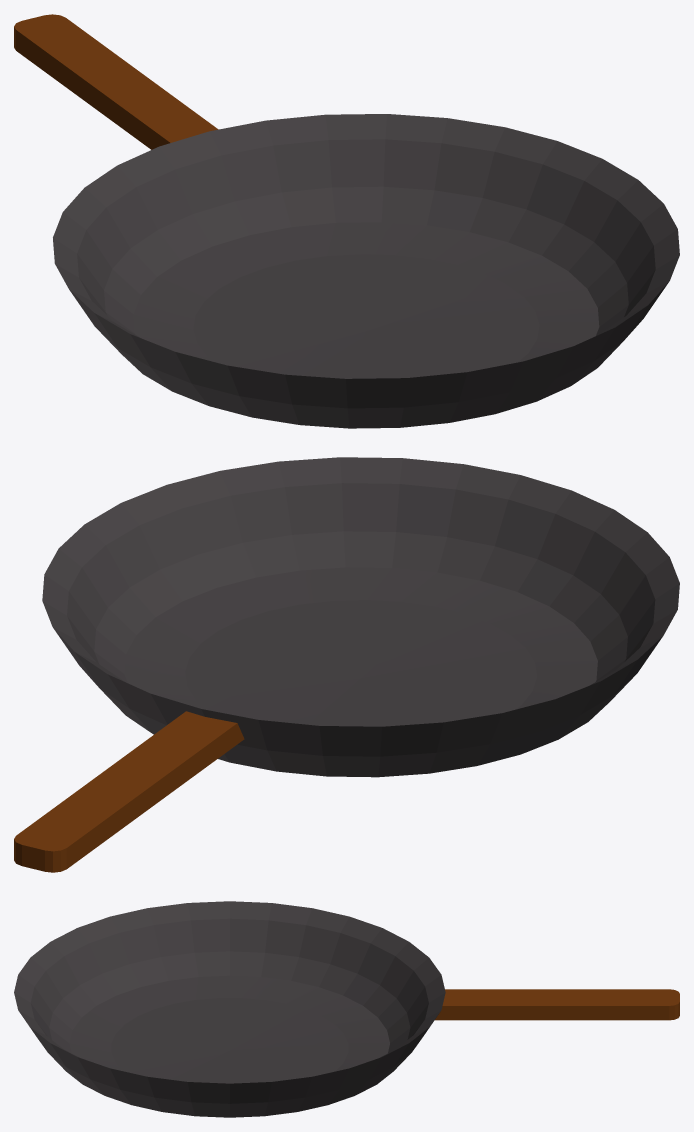
Rendered from wajan-flat.glb.
The picture shows the model from 3 angles, top to bottom: view 1: azimuth 30°, elevation 25°; view 2: azimuth 150°, elevation 25°; view 3: azimuth 270°, elevation 25°; orthographic projection. The views are drawn at different scales.
Parts seen in each view (by area): view 1: Cylinder, Cube.001; view 2: Cylinder, Cube.001; view 3: Cylinder, Cube.001.
Boxes of the visible parts, left/top/right/bottom form: Cylinder: left=53, top=114, right=679, bottom=428; Cube.001: left=14, top=14, right=218, bottom=149; Cylinder: left=42, top=457, right=679, bottom=777; Cube.001: left=14, top=711, right=244, bottom=872; Cylinder: left=14, top=901, right=445, bottom=1117; Cube.001: left=435, top=989, right=679, bottom=1020.
Bounding box in the file's own units: 3.52 × 0.5945 × 5.43.
